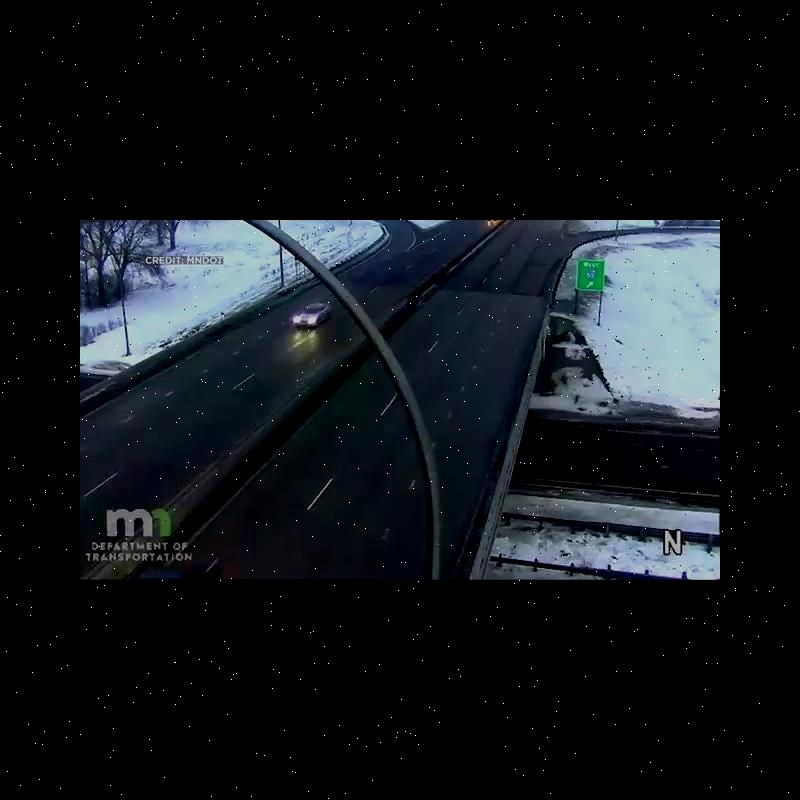car: (293, 302, 330, 329)
